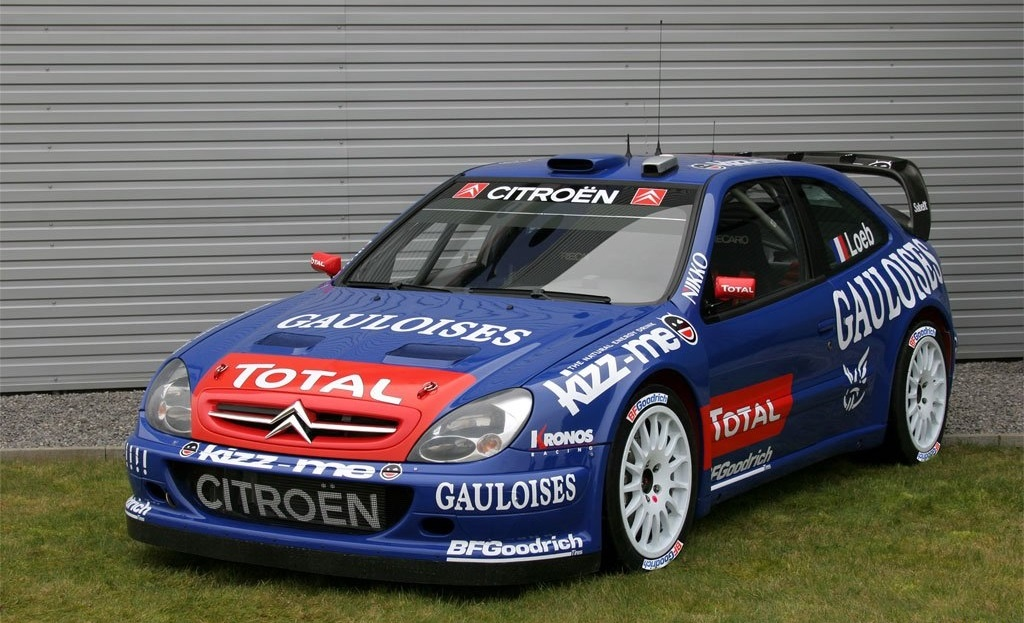racing car: (139, 130, 961, 595)
